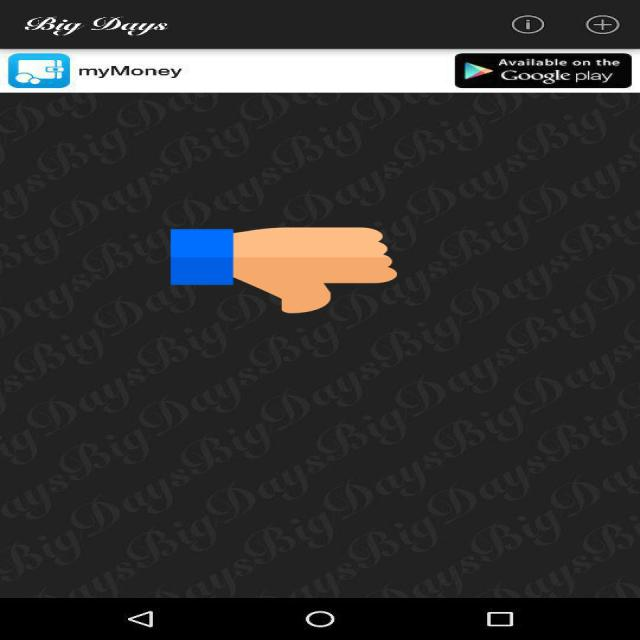obstruction: (171, 226, 397, 316)
